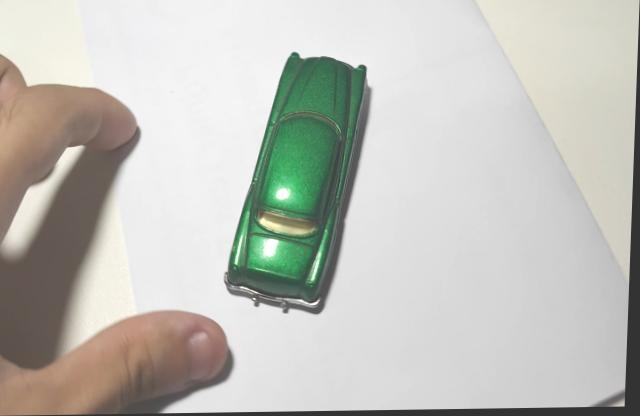06_MASERATI: (225, 55, 374, 316)
